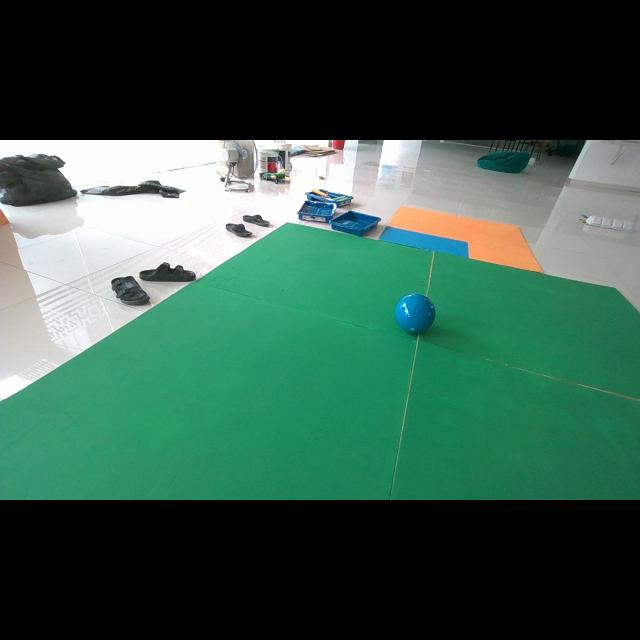B: (394, 294, 436, 334)
